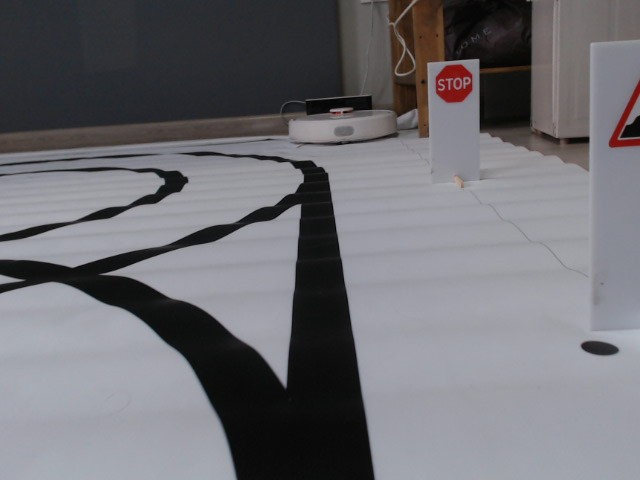Stop: (433, 65, 473, 104)
